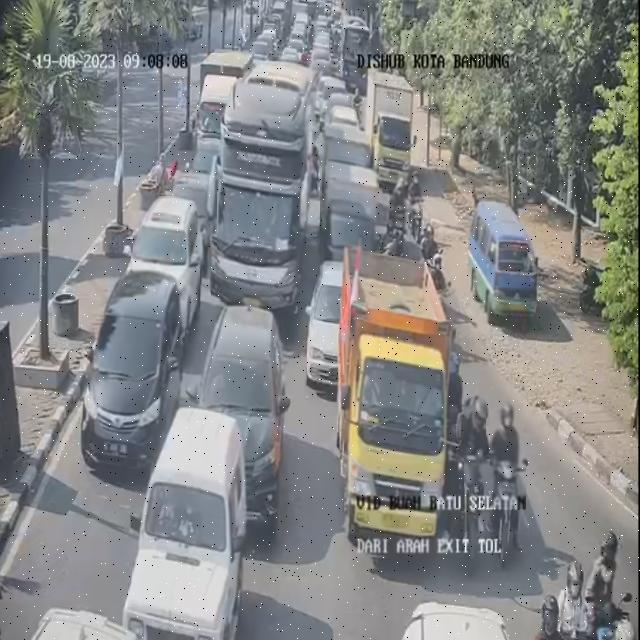bus: (212, 64, 316, 302)
cars: (133, 413, 255, 640), (185, 302, 288, 505), (90, 269, 185, 467), (473, 204, 536, 332), (133, 196, 200, 312), (320, 165, 379, 271), (306, 258, 352, 391), (384, 601, 522, 640), (2, 607, 152, 640), (173, 179, 217, 269), (322, 115, 370, 193), (189, 136, 223, 192), (320, 77, 348, 121), (314, 74, 339, 117), (314, 61, 335, 86), (313, 29, 329, 53)
motorcycle: (490, 395, 526, 509), (546, 557, 594, 638), (589, 547, 618, 639), (464, 391, 486, 487), (423, 222, 446, 290), (403, 170, 423, 216), (391, 175, 408, 225)
truck: (344, 256, 456, 567), (365, 70, 415, 190), (197, 54, 241, 148)
